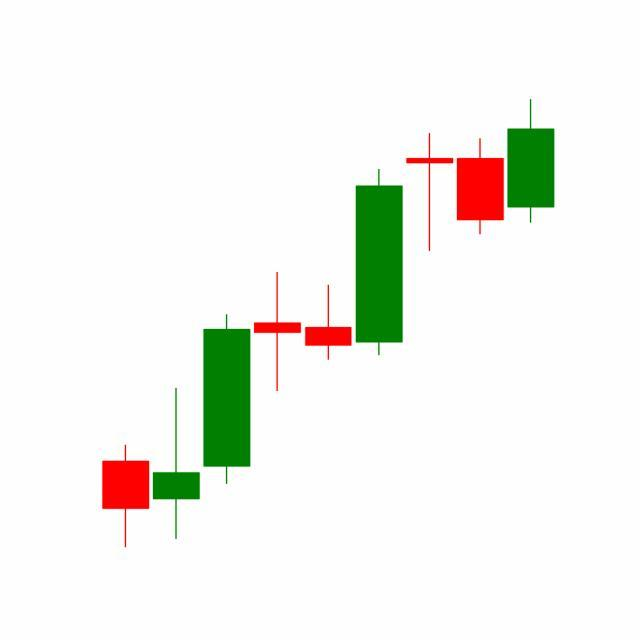Hikkake Pattern: (302, 99, 555, 364)
